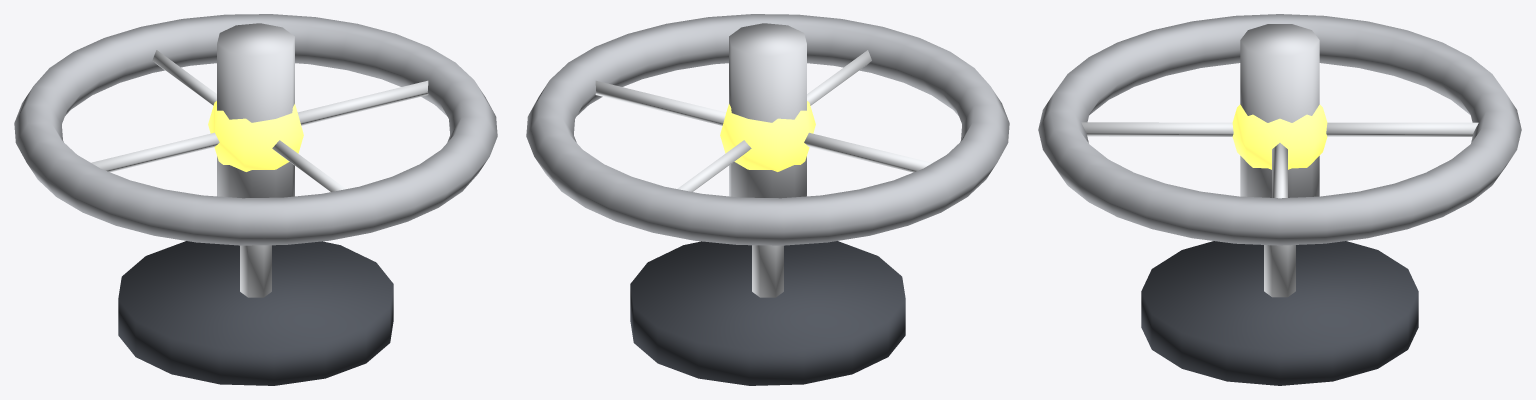
File: ship_model_station_ring.glb
3 renders of one model, left to right at view 1: azimuth 30°, elevation 25°; view 2: azimuth 150°, elevation 25°; view 3: azimuth 270°, elevation 25°, orthographic.
Parts seen in each view (by area): view 1: GD_ship_model_station_ring__m2, GD_ship_model_station_ring__m0, GD_ship_model_station_ring__m3, GD_ship_model_station_ring__m1, GD_ship_model_station_ring__m4; view 2: GD_ship_model_station_ring__m2, GD_ship_model_station_ring__m0, GD_ship_model_station_ring__m3, GD_ship_model_station_ring__m1, GD_ship_model_station_ring__m4; view 3: GD_ship_model_station_ring__m2, GD_ship_model_station_ring__m0, GD_ship_model_station_ring__m3, GD_ship_model_station_ring__m1, GD_ship_model_station_ring__m4.
Part boxes in pixels (x1=…): GD_ship_model_station_ring__m2: x1=14, y1=14, x2=497, y2=245; GD_ship_model_station_ring__m0: x1=118, y1=241, x2=393, y2=385; GD_ship_model_station_ring__m3: x1=217, y1=23, x2=294, y2=198; GD_ship_model_station_ring__m1: x1=91, y1=50, x2=428, y2=297; GD_ship_model_station_ring__m4: x1=208, y1=101, x2=303, y2=171; GD_ship_model_station_ring__m2: x1=526, y1=14, x2=1009, y2=245; GD_ship_model_station_ring__m0: x1=630, y1=241, x2=905, y2=385; GD_ship_model_station_ring__m3: x1=729, y1=23, x2=806, y2=198; GD_ship_model_station_ring__m1: x1=595, y1=50, x2=932, y2=297; GD_ship_model_station_ring__m4: x1=720, y1=101, x2=815, y2=171; GD_ship_model_station_ring__m2: x1=1038, y1=14, x2=1521, y2=245; GD_ship_model_station_ring__m0: x1=1141, y1=241, x2=1418, y2=385; GD_ship_model_station_ring__m3: x1=1240, y1=24, x2=1319, y2=197; GD_ship_model_station_ring__m1: x1=1081, y1=122, x2=1478, y2=297; GD_ship_model_station_ring__m4: x1=1232, y1=104, x2=1327, y2=169.
Bounding box in the file's own units: 0.244 × 0.16 × 0.244.
